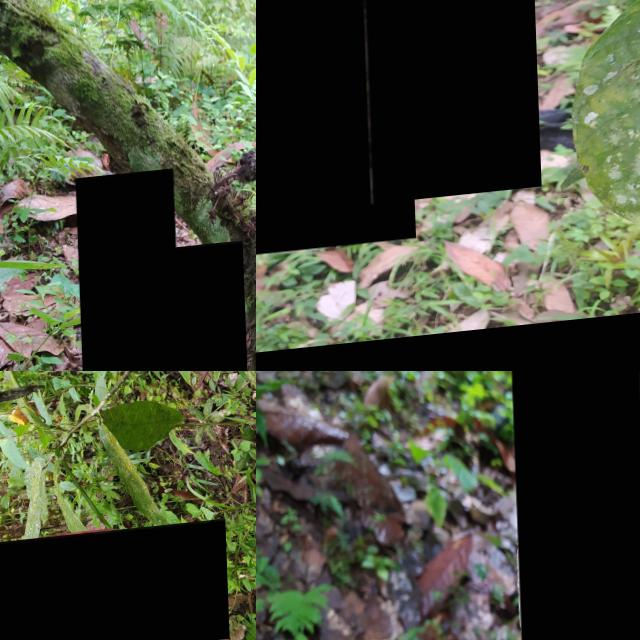Fitoftora: (256, 0, 411, 267), (358, 0, 537, 211), (73, 173, 177, 371), (173, 247, 244, 371)
Monilia: (510, 371, 640, 640)
Sana: (0, 527, 225, 640)
